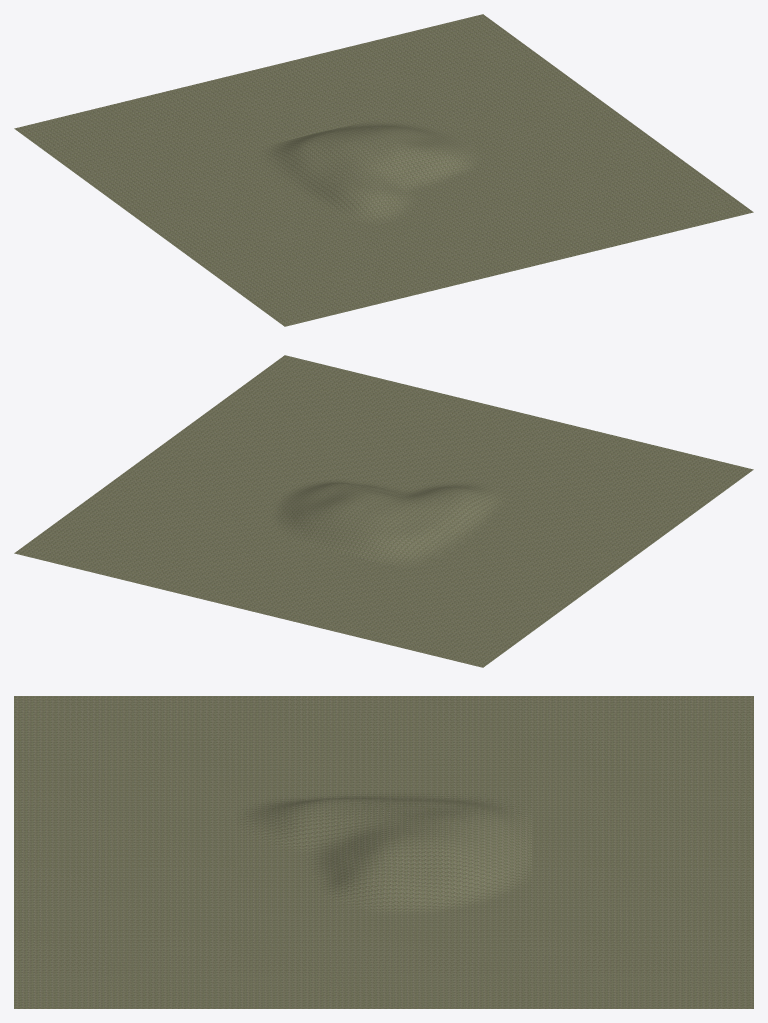
The model's file is landscape.fbx.
3 renders of one model, top to bottom at view 1: azimuth 30°, elevation 25°; view 2: azimuth 150°, elevation 25°; view 3: azimuth 270°, elevation 25°, orthographic. The views are drawn at different scales.
Parts seen in each view (by area): view 1: Water Plane, Land Plane; view 2: Water Plane, Land Plane; view 3: Water Plane, Land Plane.
Boxes of the visible parts, box(x1,y1,x2,y2) form: Water Plane: box(14, 14, 753, 326); Land Plane: box(236, 108, 530, 232); Water Plane: box(14, 355, 753, 667); Land Plane: box(236, 449, 530, 573); Water Plane: box(14, 696, 753, 1008); Land Plane: box(236, 790, 531, 914).
Size of what is drawn, in the model's own units: 250 by 8.81 by 250.
